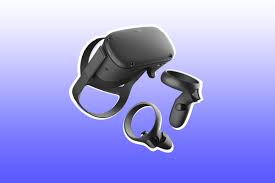oculus: (83, 24, 178, 89)
